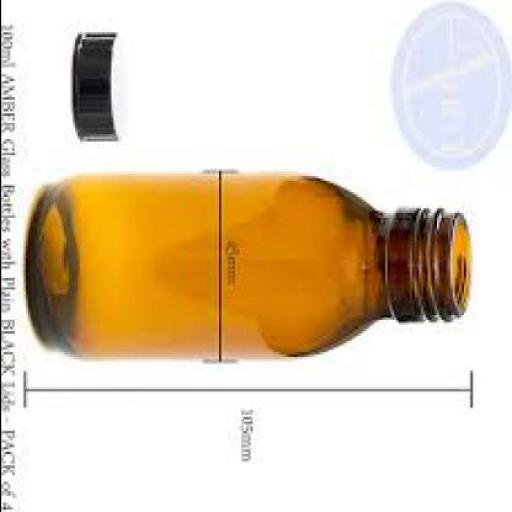glass: (26, 162, 472, 357)
plastic: (74, 30, 130, 141)
